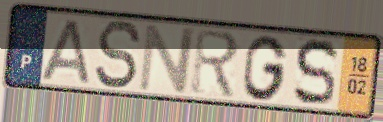A: (38, 17, 92, 87)
G: (241, 33, 290, 103)
N: (136, 23, 199, 95)
R: (189, 26, 241, 101)
S: (92, 19, 144, 92), (291, 36, 340, 109)
